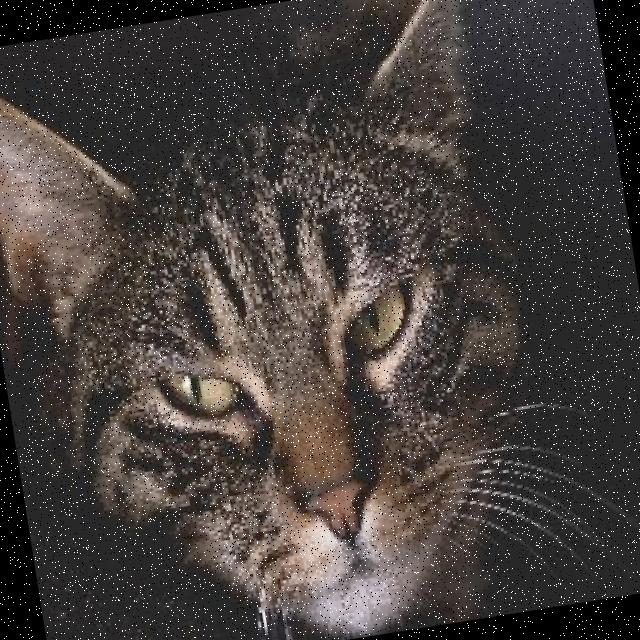Angry: (102, 255, 506, 640)
